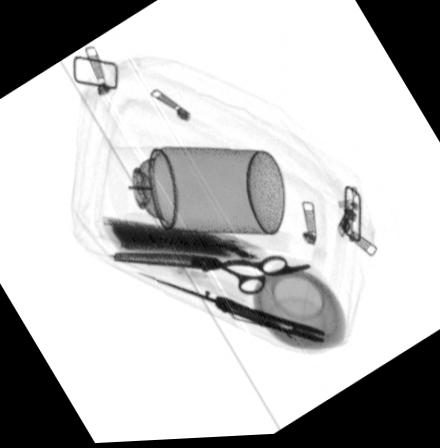Knife: (136, 269, 326, 347)
Powerbank: (96, 218, 268, 254)
Scissors: (111, 249, 310, 297)
Sprayer: (104, 148, 285, 236)
